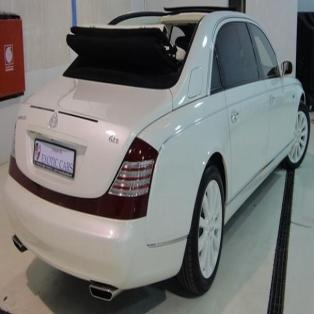Auto: (3, 3, 310, 302)
